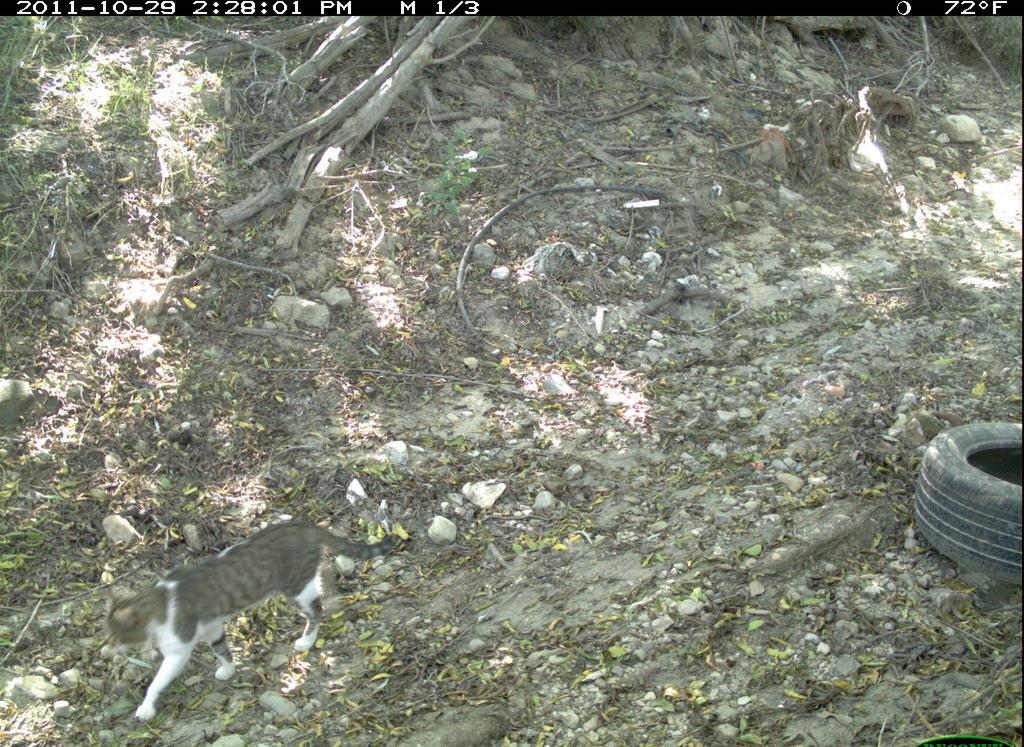cat: (89, 514, 404, 725)
